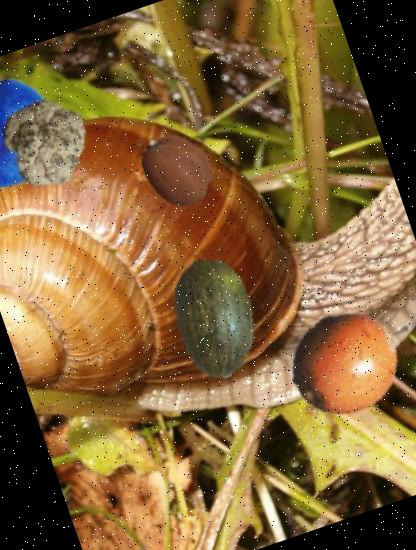Apricot: (129, 122, 224, 218)
Cauliflower: (0, 86, 102, 200)
Granadilla: (270, 270, 416, 444)
Huckleberry: (0, 62, 74, 207)
Melon: (139, 241, 292, 394)
